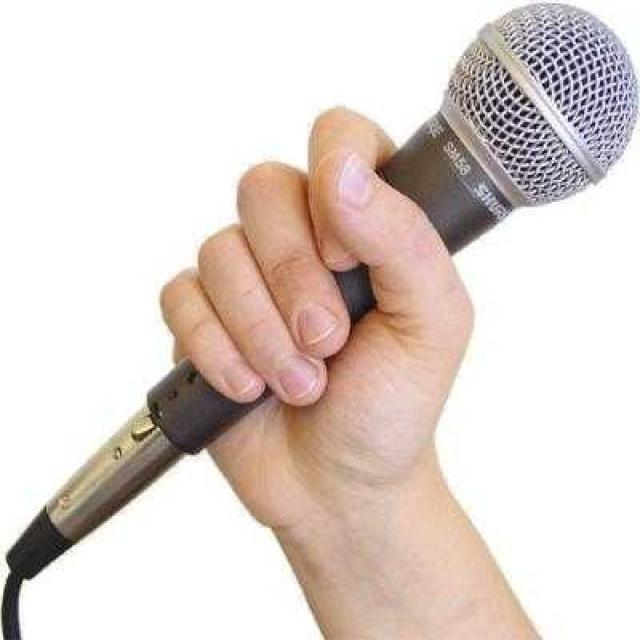microphone: (91, 3, 640, 490)
